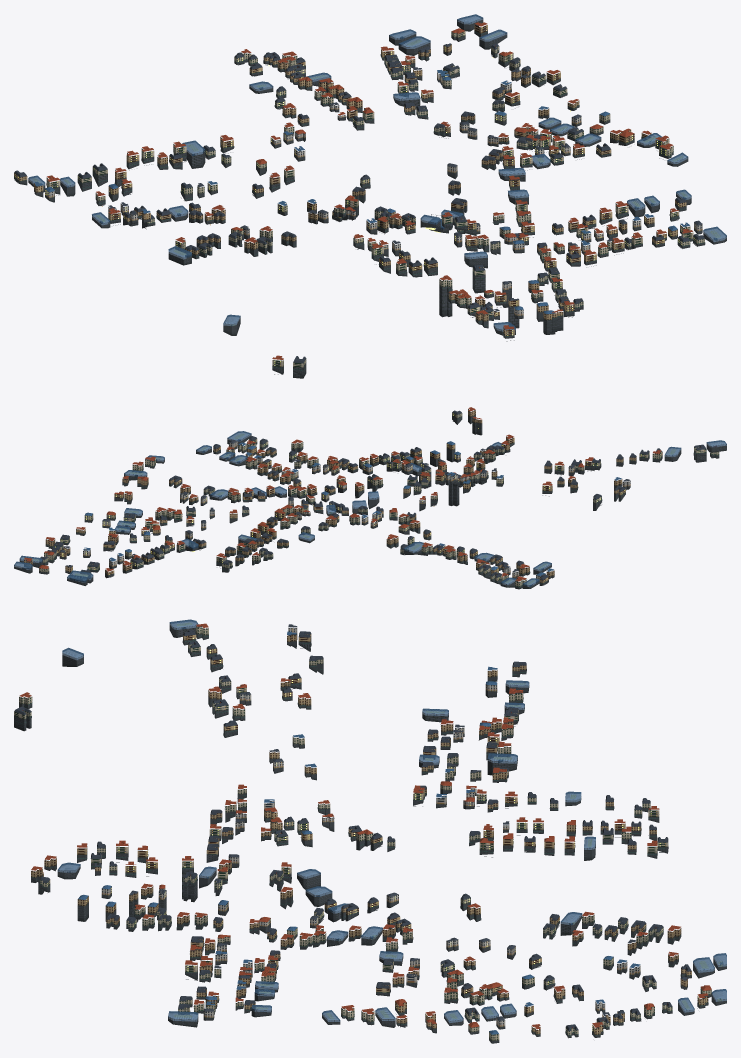
Rendered from osm_buildings_T_W02_S01_Q2.glb.
The picture shows the model from 3 angles, top to bottom: view 1: azimuth 30°, elevation 25°; view 2: azimuth 150°, elevation 25°; view 3: azimuth 270°, elevation 25°; orthographic projection. The views are drawn at different scales.
Visible parts, largest first — view 1: OSM_T_W02_S01_Q2_foundation, OSM_T_W02_S01_Q2_wall_french_ochre, OSM_T_W02_S01_Q2_wall_cream_stucco, OSM_T_W02_S01_Q2_greenhouse_blend, OSM_T_W02_S01_Q2_roof_terracotta, OSM_T_W02_S01_Q2_roof_mansard_slate, OSM_T_W02_S01_Q2_roof_mansard_deck, OSM_T_W02_S01_Q2_roof_mint_metal, OSM_T_W02_S01_Q2_wall_pastel_sand, OSM_T_W02_S01_Q2_trim_cornice, OSM_T_W02_S01_Q2_balcony_railing, OSM_T_W02_S01_Q2_roof_alpine_blue (+2 smaller); view 2: OSM_T_W02_S01_Q2_foundation, OSM_T_W02_S01_Q2_wall_french_ochre, OSM_T_W02_S01_Q2_wall_cream_stucco, OSM_T_W02_S01_Q2_greenhouse_blend, OSM_T_W02_S01_Q2_roof_terracotta, OSM_T_W02_S01_Q2_roof_mansard_slate, OSM_T_W02_S01_Q2_roof_mansard_deck, OSM_T_W02_S01_Q2_wall_pastel_sand, OSM_T_W02_S01_Q2_roof_mint_metal, OSM_T_W02_S01_Q2_roof_alpine_blue, OSM_T_W02_S01_Q2_wall_warm_white, OSM_T_W02_S01_Q2_balcony_railing (+2 smaller); view 3: OSM_T_W02_S01_Q2_foundation, OSM_T_W02_S01_Q2_wall_french_ochre, OSM_T_W02_S01_Q2_wall_cream_stucco, OSM_T_W02_S01_Q2_greenhouse_blend, OSM_T_W02_S01_Q2_roof_terracotta, OSM_T_W02_S01_Q2_roof_mansard_slate, OSM_T_W02_S01_Q2_roof_mansard_deck, OSM_T_W02_S01_Q2_wall_pastel_sand, OSM_T_W02_S01_Q2_roof_mint_metal, OSM_T_W02_S01_Q2_trim_cornice, OSM_T_W02_S01_Q2_roof_alpine_blue, OSM_T_W02_S01_Q2_wall_warm_white (+2 smaller).
Boxes of the visible parts, x1=… form: OSM_T_W02_S01_Q2_foundation: x1=14, y1=19, x2=726, y2=378; OSM_T_W02_S01_Q2_wall_french_ochre: x1=14, y1=24, x2=686, y2=336; OSM_T_W02_S01_Q2_wall_cream_stucco: x1=46, y1=31, x2=704, y2=367; OSM_T_W02_S01_Q2_greenhouse_blend: x1=28, y1=14, x2=726, y2=331; OSM_T_W02_S01_Q2_roof_terracotta: x1=47, y1=22, x2=692, y2=359; OSM_T_W02_S01_Q2_roof_mansard_slate: x1=14, y1=43, x2=704, y2=363; OSM_T_W02_S01_Q2_roof_mansard_deck: x1=16, y1=20, x2=723, y2=360; OSM_T_W02_S01_Q2_roof_mint_metal: x1=14, y1=32, x2=703, y2=370; OSM_T_W02_S01_Q2_wall_pastel_sand: x1=45, y1=71, x2=603, y2=315; OSM_T_W02_S01_Q2_trim_cornice: x1=15, y1=29, x2=702, y2=374; OSM_T_W02_S01_Q2_balcony_railing: x1=14, y1=27, x2=695, y2=364; OSM_T_W02_S01_Q2_roof_alpine_blue: x1=34, y1=70, x2=689, y2=314; OSM_T_W02_S01_Q2_foundation: x1=14, y1=415, x2=726, y2=589; OSM_T_W02_S01_Q2_wall_french_ochre: x1=24, y1=409, x2=662, y2=583; OSM_T_W02_S01_Q2_wall_cream_stucco: x1=39, y1=412, x2=719, y2=586; OSM_T_W02_S01_Q2_greenhouse_blend: x1=14, y1=431, x2=726, y2=586; OSM_T_W02_S01_Q2_roof_terracotta: x1=24, y1=407, x2=716, y2=581; OSM_T_W02_S01_Q2_roof_mansard_slate: x1=40, y1=411, x2=706, y2=580; OSM_T_W02_S01_Q2_roof_mansard_deck: x1=20, y1=410, x2=726, y2=585; OSM_T_W02_S01_Q2_wall_pastel_sand: x1=102, y1=454, x2=545, y2=579; OSM_T_W02_S01_Q2_roof_mint_metal: x1=43, y1=418, x2=718, y2=587; OSM_T_W02_S01_Q2_roof_alpine_blue: x1=83, y1=441, x2=621, y2=576; OSM_T_W02_S01_Q2_wall_warm_white: x1=83, y1=441, x2=630, y2=577; OSM_T_W02_S01_Q2_balcony_railing: x1=26, y1=410, x2=704, y2=584; OSM_T_W02_S01_Q2_foundation: x1=14, y1=624, x2=726, y2=1043; OSM_T_W02_S01_Q2_wall_french_ochre: x1=31, y1=634, x2=708, y2=1034; OSM_T_W02_S01_Q2_wall_cream_stucco: x1=14, y1=626, x2=711, y2=1040; OSM_T_W02_S01_Q2_greenhouse_blend: x1=57, y1=619, x2=726, y2=1023; OSM_T_W02_S01_Q2_roof_terracotta: x1=19, y1=623, x2=711, y2=1029; OSM_T_W02_S01_Q2_roof_mansard_slate: x1=14, y1=624, x2=691, y2=1030; OSM_T_W02_S01_Q2_roof_mansard_deck: x1=16, y1=625, x2=726, y2=1028; OSM_T_W02_S01_Q2_wall_pastel_sand: x1=101, y1=684, x2=640, y2=1026; OSM_T_W02_S01_Q2_roof_mint_metal: x1=14, y1=635, x2=708, y2=1035; OSM_T_W02_S01_Q2_trim_cornice: x1=21, y1=627, x2=708, y2=1034; OSM_T_W02_S01_Q2_roof_alpine_blue: x1=78, y1=631, x2=640, y2=1034; OSM_T_W02_S01_Q2_wall_warm_white: x1=158, y1=627, x2=627, y2=1017.
Size of the model in its own units: 1003 by 223 by 1001.
16 materials, 16 textured.
